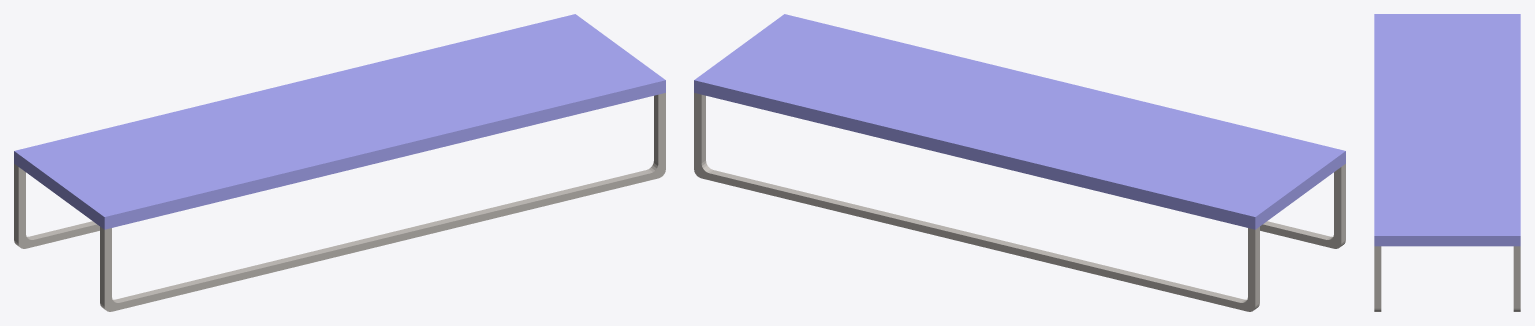
Rendered from Prop_Table_12.fbx.
The picture shows the model from 3 angles, left to right: view 1: azimuth 30°, elevation 25°; view 2: azimuth 150°, elevation 25°; view 3: azimuth 270°, elevation 25°; orthographic projection. The views are drawn at different scales.
Visible parts, largest first — view 1: Prop_Table_12; view 2: Prop_Table_12; view 3: Prop_Table_12.
Boxes of the visible parts, box(x1,y1,x2,y2) form: Prop_Table_12: box(14, 14, 665, 311); Prop_Table_12: box(694, 14, 1345, 311); Prop_Table_12: box(1374, 14, 1520, 311).
Bounding box in the file's own units: 226 × 37.11 × 63.08.
